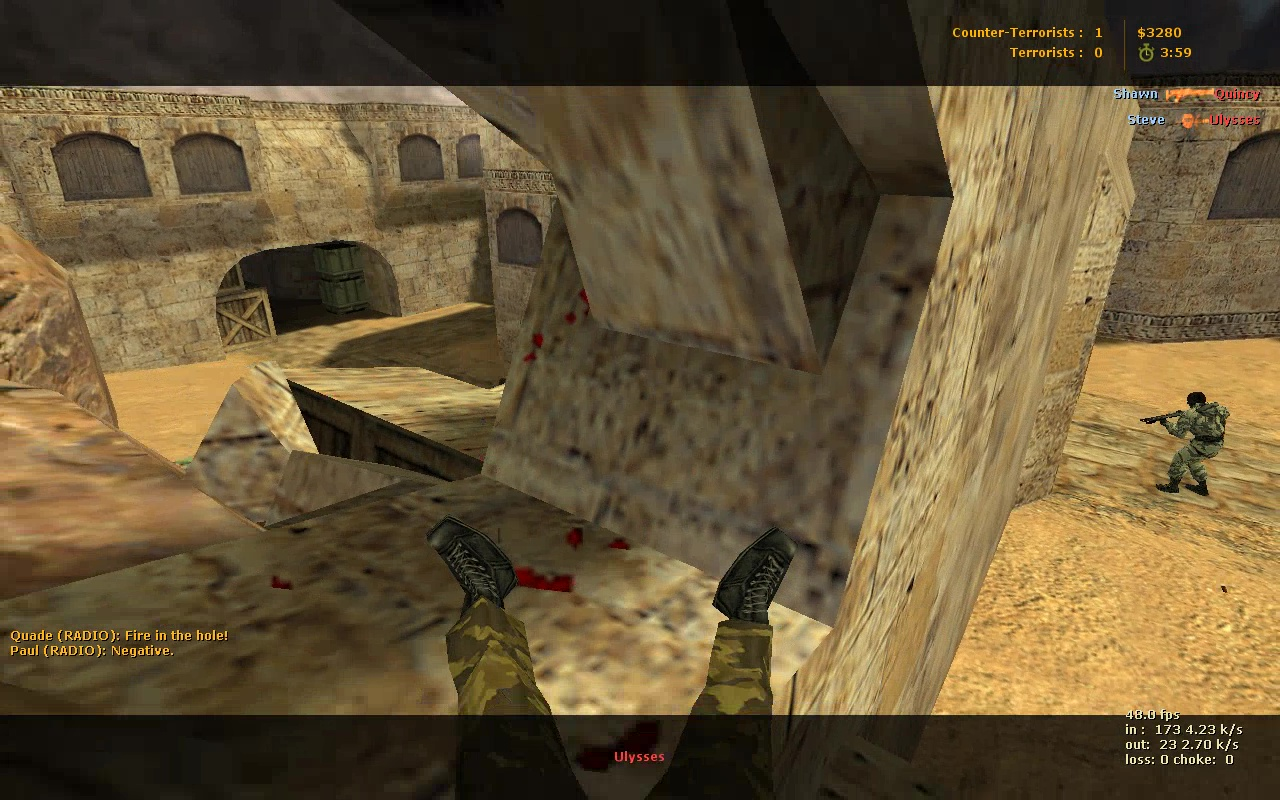terr2: (1156, 389, 1231, 497)
